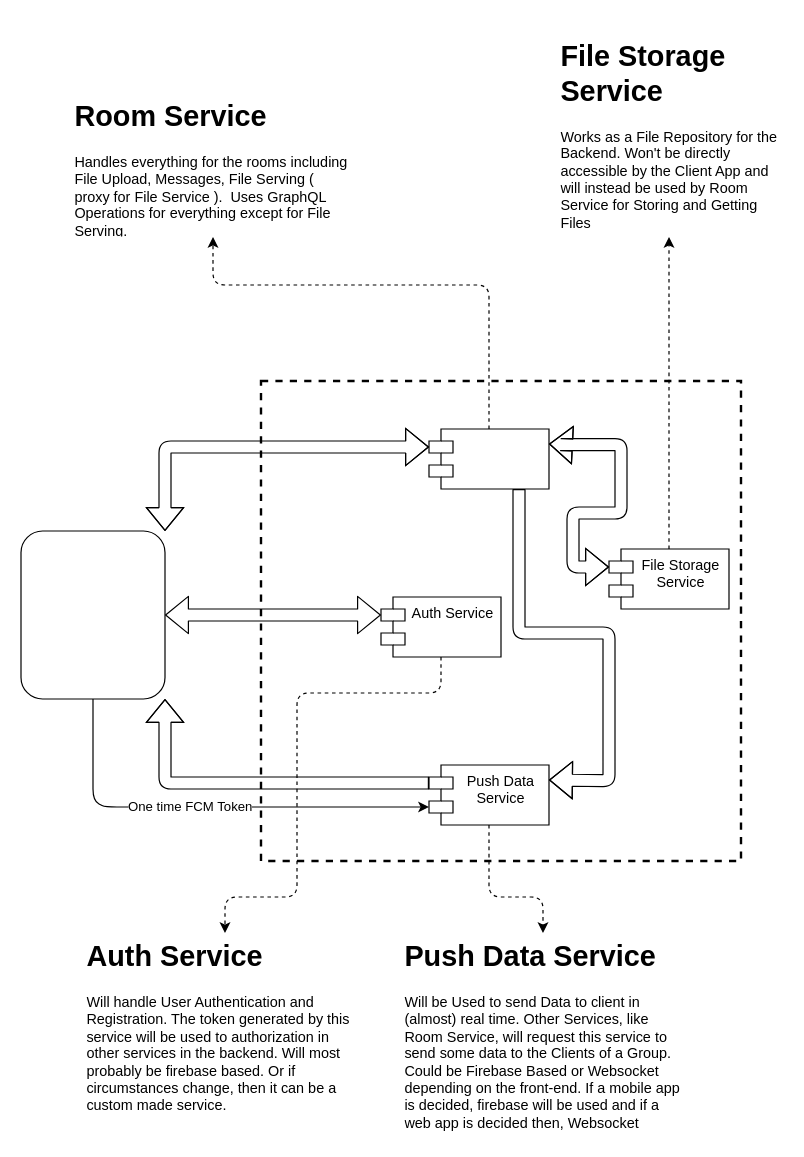
Some shapes in this 804 by 1157 pixel diagram are drawn without their labels. The shapes that lost their labels are listed below. From the top down, each one's centre as x and y in pixels, then its label:
At pixel 488 458: "Room Service (GraphQL + Rest)".
At pixel 92 614: "Client App".
